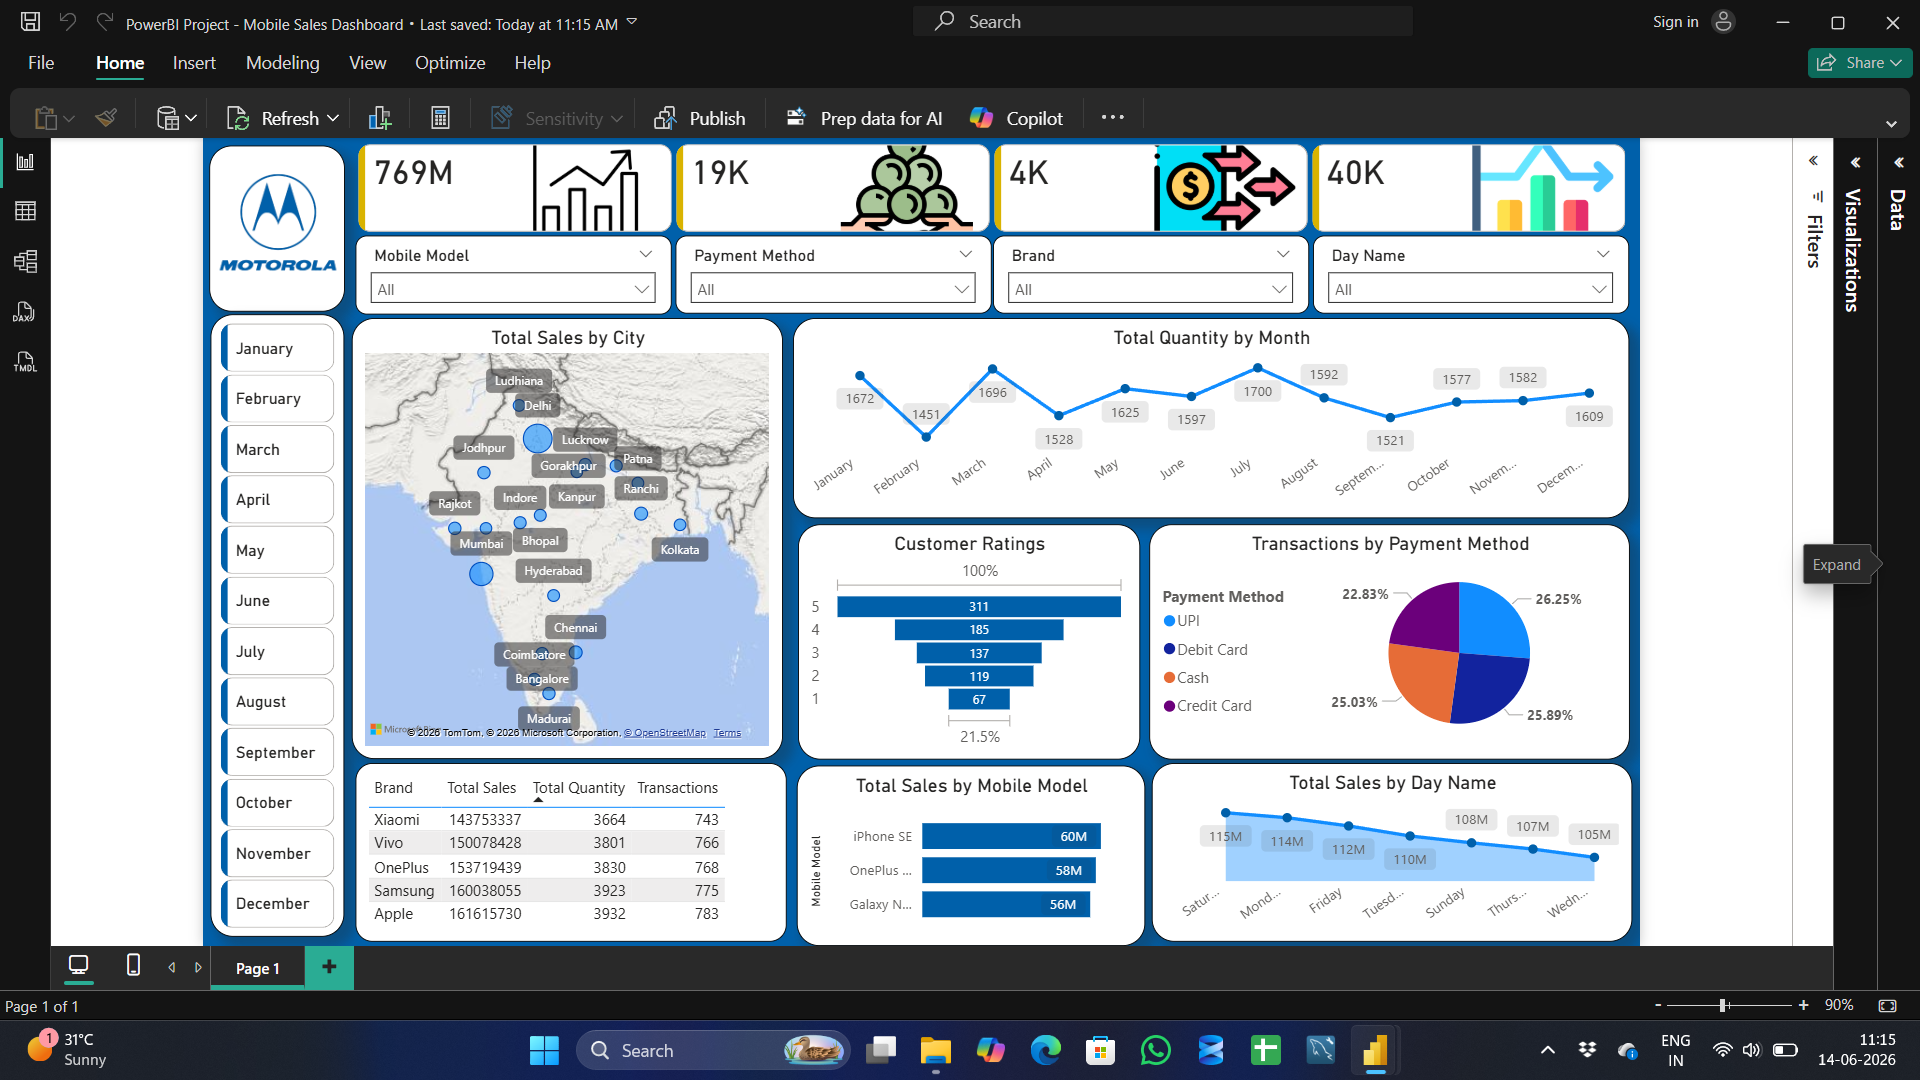

Layout of this report page (visuals, bound fields, positions):
{"tool":"powerbi","page":{"name":"Page 1","canvas":[1280,720],"ordinal":0},"visuals":[{"type":"shape","box":[5.5,6.9,120.8,148.2],"z":0},{"type":"image","box":[9.6,16.5,113.9,116.6],"z":1000},{"type":"shape","box":[6.9,156.4,119.4,554.4],"z":2000},{"type":"advancedSlicerVisual","fields":{"Values":["Sales_Data.Date.Variation.Date Hierarchy.Month"]},"box":[11,160.5,111.1,548.9],"z":3000},{"type":"cardVisual","fields":{"Data":["Sales_Data.Total Sales","Sales_Data.Total Quantity","Sales_Data.Transactions","Sales_Data.Average"]},"box":[134,5.6,1140.1,83.7],"z":4000},{"type":"map","fields":{"Category":["Sales_Data.City"],"Size":["Sales_Data.Total Sales"]},"box":[132.9,160.8,384.1,393.1],"z":5000},{"type":"lineChart","fields":{"Y":["Sales_Data.Total Quantity"],"Category":["Sales_Data.Date.Variation.Date Hierarchy.Month","Sales_Data.Date.Variation.Date Hierarchy.Day"]},"box":[525.9,160.8,744.8,178.7],"z":6000},{"type":"clusteredBarChart","fields":{"Category":["Sales_Data.Mobile Model"],"Y":["Sales_Data.Total Sales"]},"box":[528.3,558.5,310.1,160.5],"z":7000},{"type":"pieChart","fields":{"Category":["Sales_Data.Payment Method"],"Y":["Sales_Data.Transactions"]},"box":[842.5,344.4,428.1,209.9],"z":8000},{"type":"funnel","title":"Customer Ratings","fields":{"Category":["Sales_Data.Customer Ratings"],"Y":["CountNonNull(Sales_Data.Customer Ratings)"]},"box":[529.7,344.4,304.6,209.9],"z":9000},{"type":"areaChart","fields":{"Category":["Sales_Data.Day Name"],"Y":["Sales_Data.Total Sales"]},"box":[845.3,557.1,428.1,159.2],"z":10000},{"type":"tableEx","fields":{"Values":["Sales_Data.Brand","Sales_Data.Total Sales","Sales_Data.Total Quantity","Sales_Data.Transactions"]},"box":[135.8,557.1,384.2,159.2],"z":11000},{"type":"slicer","fields":{"Values":["Sales_Data.Mobile Model"]},"box":[136.2,87.1,281.4,70.3],"z":12000},{"type":"slicer","fields":{"Values":["Sales_Data.Payment Method"]},"box":[421,87.1,281.4,69.2],"z":13000},{"type":"slicer","fields":{"Values":["Sales_Data.Brand"]},"box":[703.5,87.1,281.4,69.2],"z":14000},{"type":"slicer","fields":{"Values":["Sales_Data.Day Name"]},"box":[988.2,87.1,281.4,69.2],"z":15000}]}

Visuals, with their boxes on the page's 1280x720 design canvas (x1, y1, x2, y2). These are canvas units, not pixel positions in the 1920x1080 screenshot, which may show the page scaled, cropped or inside an application window:
shape: [6,7,126,155]
image: [10,16,124,133]
shape: [7,156,126,711]
advancedSlicerVisual - Sales_Data.Date.Variation.Date Hierarchy.Month: [11,160,122,709]
cardVisual - Sales_Data.Total Sales x Sales_Data.Total Quantity: [134,6,1274,89]
map - Sales_Data.City x Sales_Data.Total Sales: [133,161,517,554]
lineChart - Sales_Data.Total Quantity x Sales_Data.Date.Variation.Date Hierarchy.Month: [526,161,1271,340]
clusteredBarChart - Sales_Data.Mobile Model x Sales_Data.Total Sales: [528,558,838,719]
pieChart - Sales_Data.Payment Method x Sales_Data.Transactions: [842,344,1271,554]
"Customer Ratings" funnel: [530,344,834,554]
areaChart - Sales_Data.Day Name x Sales_Data.Total Sales: [845,557,1273,716]
tableEx - Sales_Data.Brand x Sales_Data.Total Sales: [136,557,520,716]
slicer - Sales_Data.Mobile Model: [136,87,418,157]
slicer - Sales_Data.Payment Method: [421,87,702,156]
slicer - Sales_Data.Brand: [704,87,985,156]
slicer - Sales_Data.Day Name: [988,87,1270,156]
